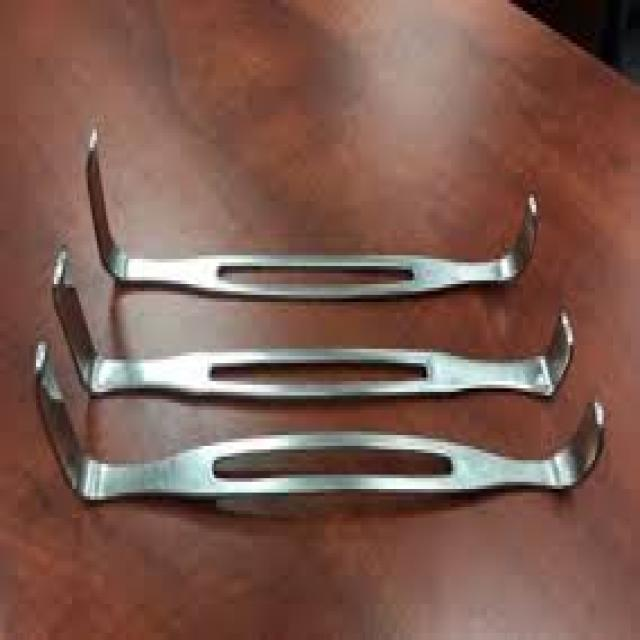Army Navy Retractor: (33, 338, 612, 516), (81, 110, 542, 317), (49, 248, 580, 412)
